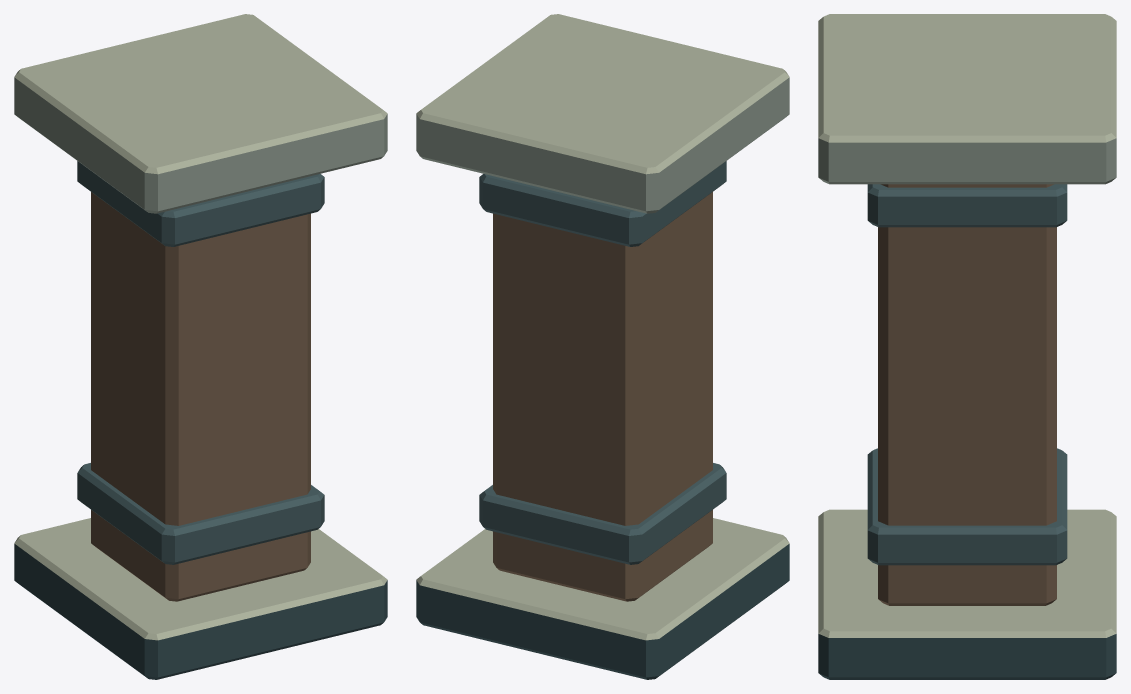
File: pillar-small.glb
The picture shows the model from 3 angles, left to right: view 1: azimuth 30°, elevation 25°; view 2: azimuth 150°, elevation 25°; view 3: azimuth 270°, elevation 25°; orthographic projection. The views are drawn at different scales.
Visible parts, largest first — view 1: pillar-small__body; view 2: pillar-small__body; view 3: pillar-small__body.
Boxes of the visible parts, x1,y1,x2,y2 form: pillar-small__body: (14,14,387,679); pillar-small__body: (416,14,789,679); pillar-small__body: (818,14,1116,679).
Size of the model in its own units: 0.72 by 1.45 by 0.72.
